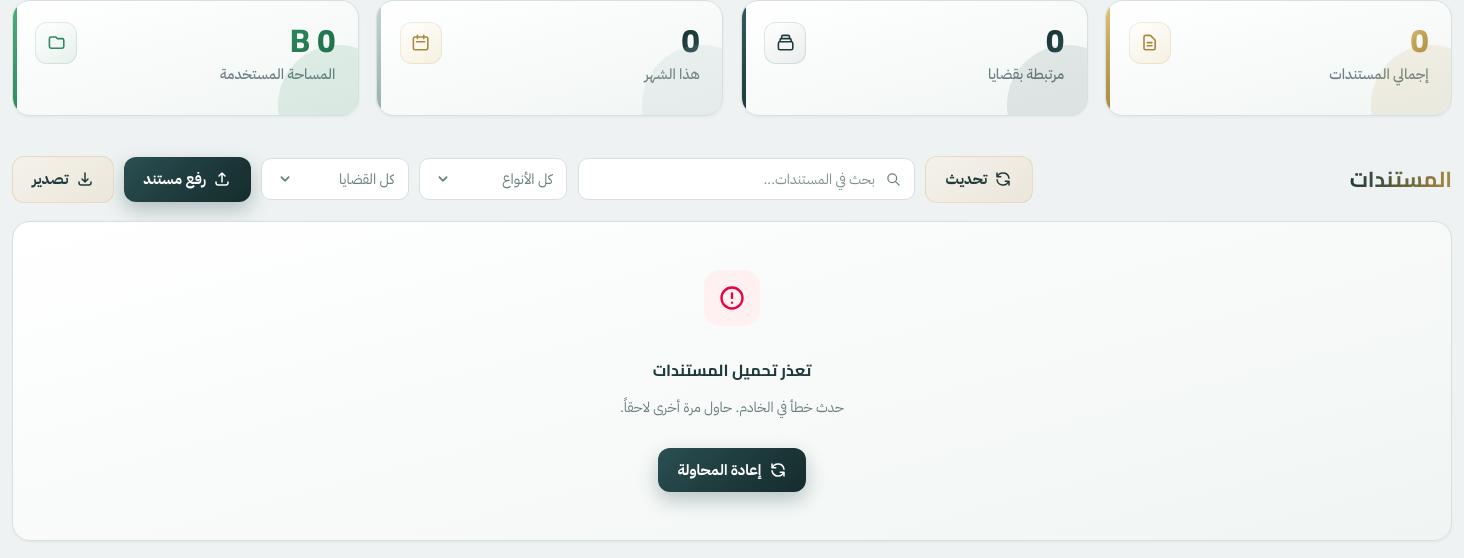
DocumentsPage Feature Tests › handles error state with retry button
The width and height of the screenshot is (1464, 558).
Expected: the text "تعذر تحميل المستندات" is shown, [653, 355, 811, 385]
What coordinates should you click on to do the following:
click the button "إعادة المحاولة"
I would click on:
 (732, 470)
Its box is [658, 448, 806, 492].
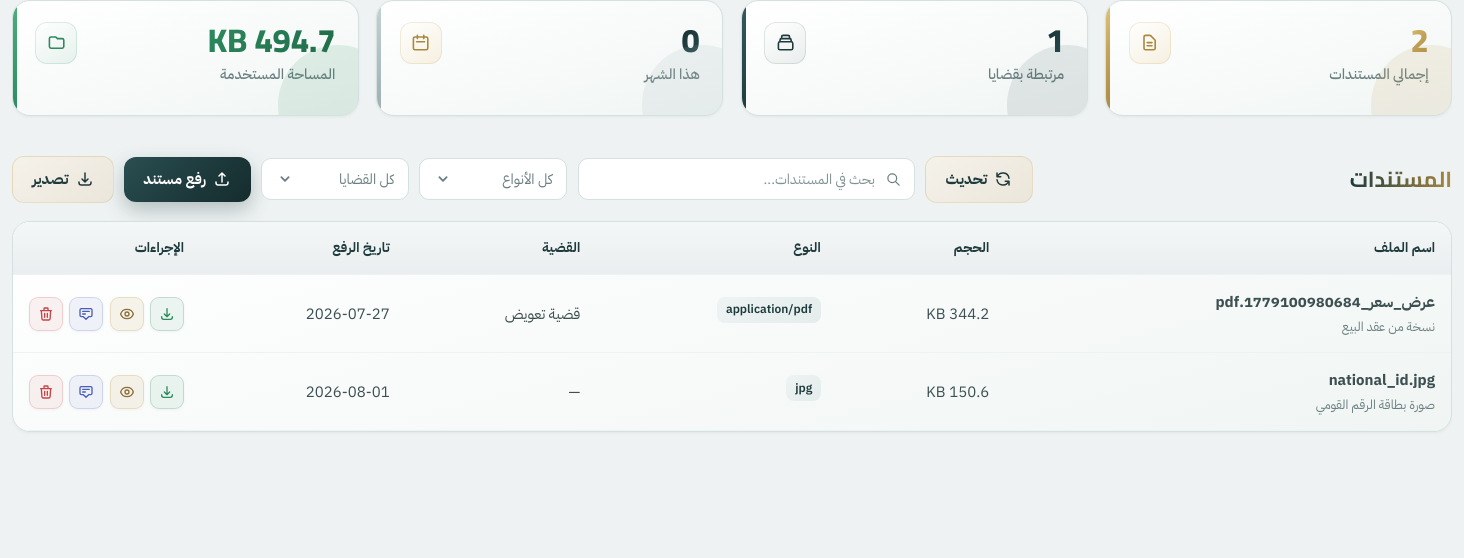
Now the text "عرض_سعر_1779100980684.pdf" is shown, box [1216, 291, 1435, 313]
